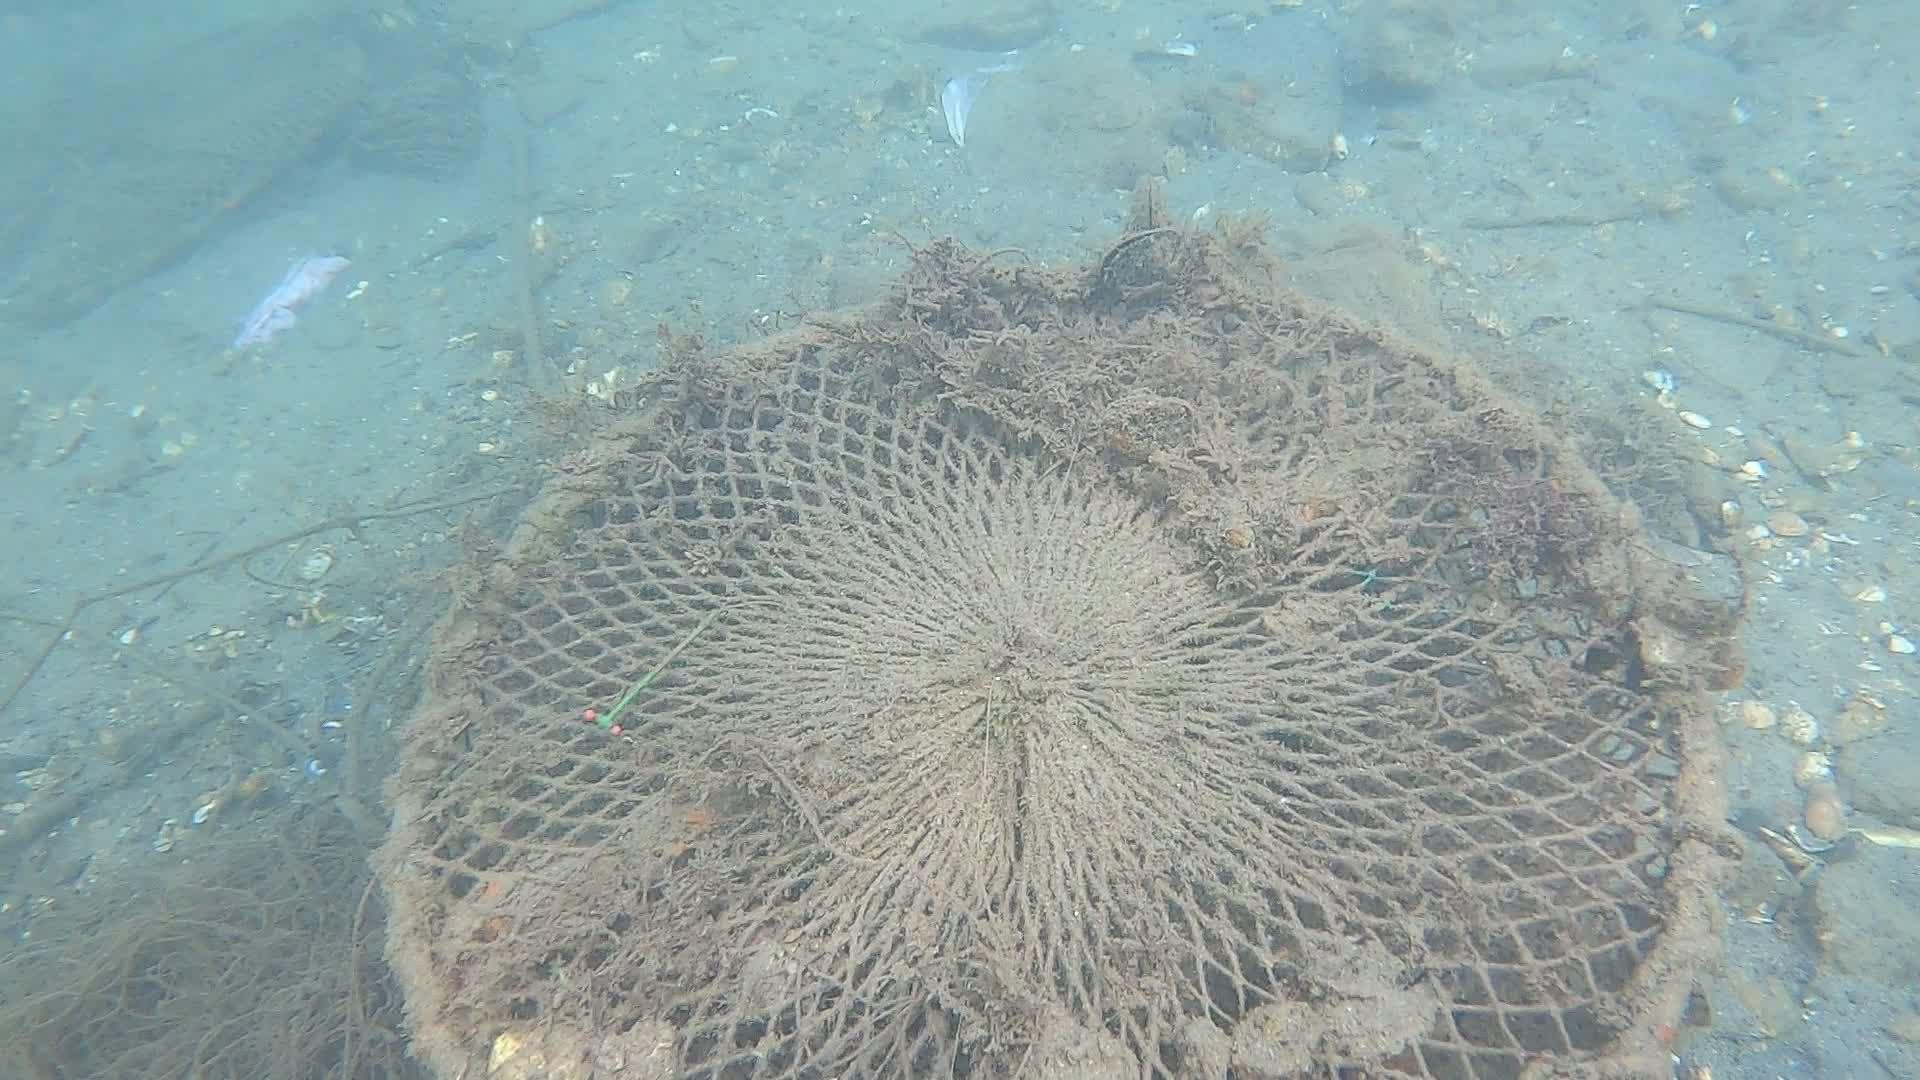circular fish trap: (375, 266, 1741, 1080)
